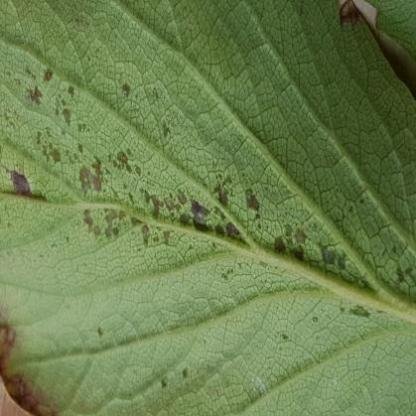Strawberry_Angular_LeafSpot: (0, 13, 415, 398)
